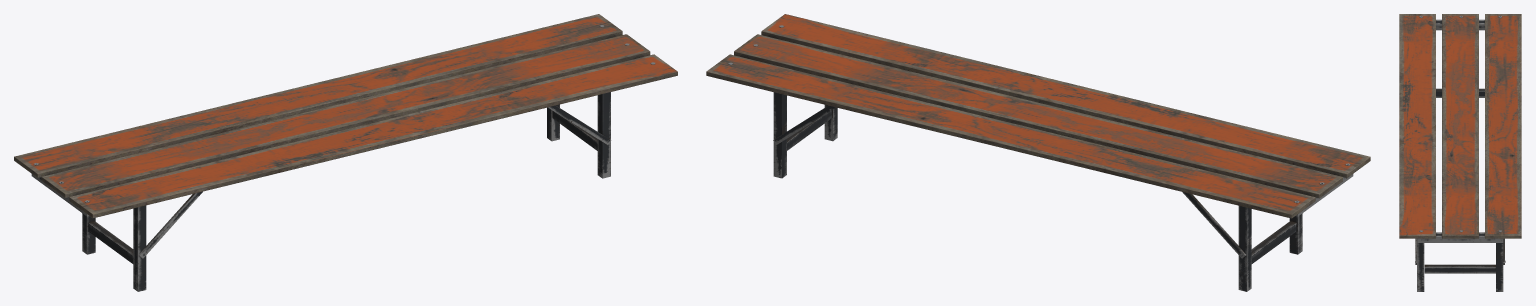
File: old_outdoor_bench.glb
3 renders of one model, left to right at view 1: azimuth 30°, elevation 25°; view 2: azimuth 150°, elevation 25°; view 3: azimuth 270°, elevation 25°, orthographic. The views are drawn at different scales.
Visible parts, largest first — view 1: mesh0_bench_0; view 2: mesh0_bench_0; view 3: mesh0_bench_0.
Part boxes in pixels (bbox=[...]): mesh0_bench_0: bbox=[14, 14, 677, 291]; mesh0_bench_0: bbox=[706, 14, 1370, 291]; mesh0_bench_0: bbox=[1399, 14, 1521, 291].
Size of the model in its own units: 0.9799 by 0.1606 by 0.2288.
1 material, 1 textured.
